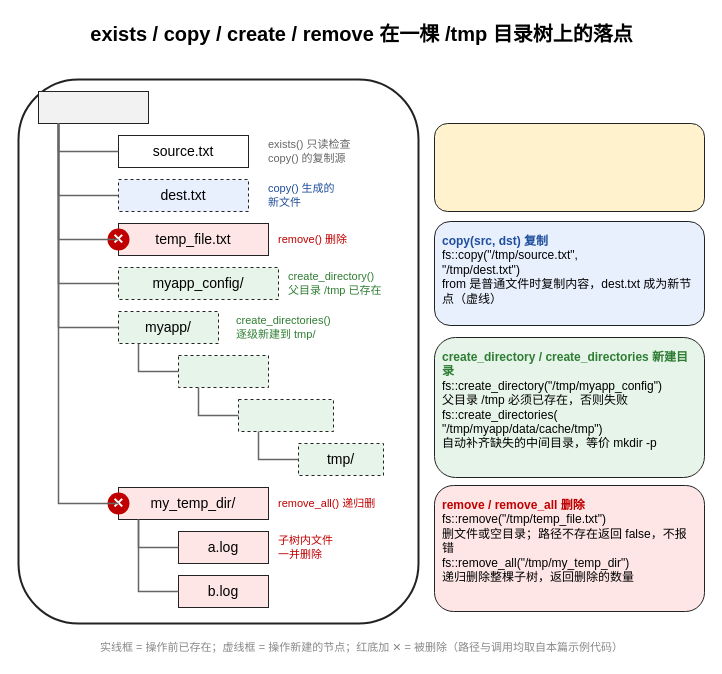
Some shapes in this 722 by 674 pixel diagram are drawn without their labels. Each missing label, with the centre of its shape:
/tmp/: (93,107)
cache/: (286,415)
data/: (223,371)
exists(p) 只读查询 fs::exists("/tmp/source.txt") 不改动目录树；不存在返回 false: (569,167)
